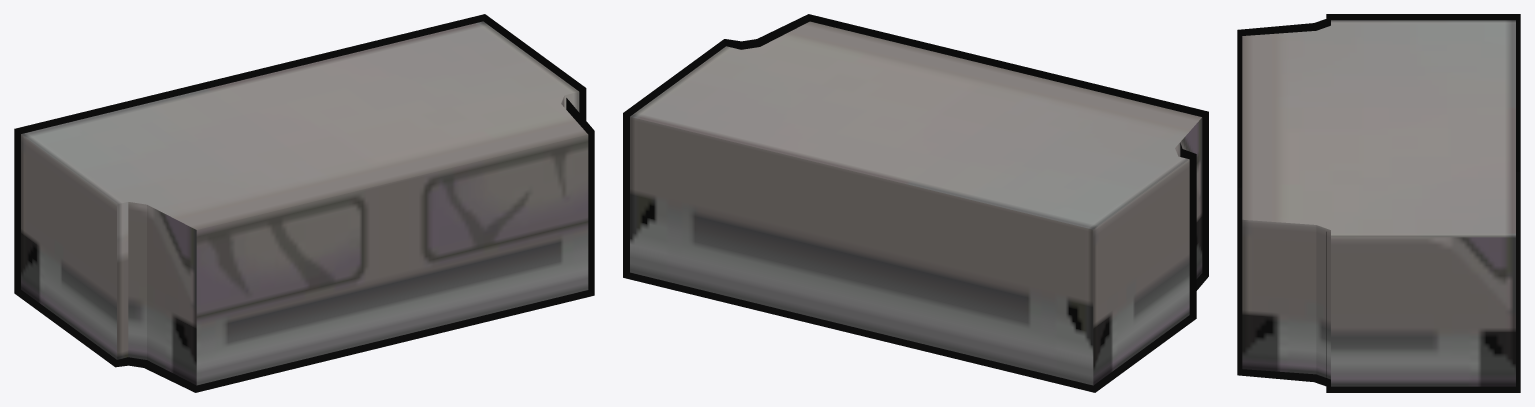
File: Building_AncientDestroyedConsole_Things_Building_Ancient_DestroyedConsole_AncientDestroyedConsole_Small.glb
The picture shows the model from 3 angles, left to right: view 1: azimuth 30°, elevation 25°; view 2: azimuth 150°, elevation 25°; view 3: azimuth 270°, elevation 25°; orthographic projection. The views are drawn at different scales.
Parts seen in each view (by area): view 1: Body, Outline; view 2: Body, Outline; view 3: Body, Outline.
Boxes of the visible parts, x1,y1,x2,y2 form: Body: [21, 21, 588, 385]; Outline: [14, 14, 594, 392]; Body: [630, 21, 1202, 385]; Outline: [623, 14, 1208, 392]; Body: [1242, 20, 1515, 386]; Outline: [1237, 14, 1520, 392].
Size of the model in its own units: 0.9868 by 0.3367 by 0.5349.
Materials: 2 (1 with a texture image).
